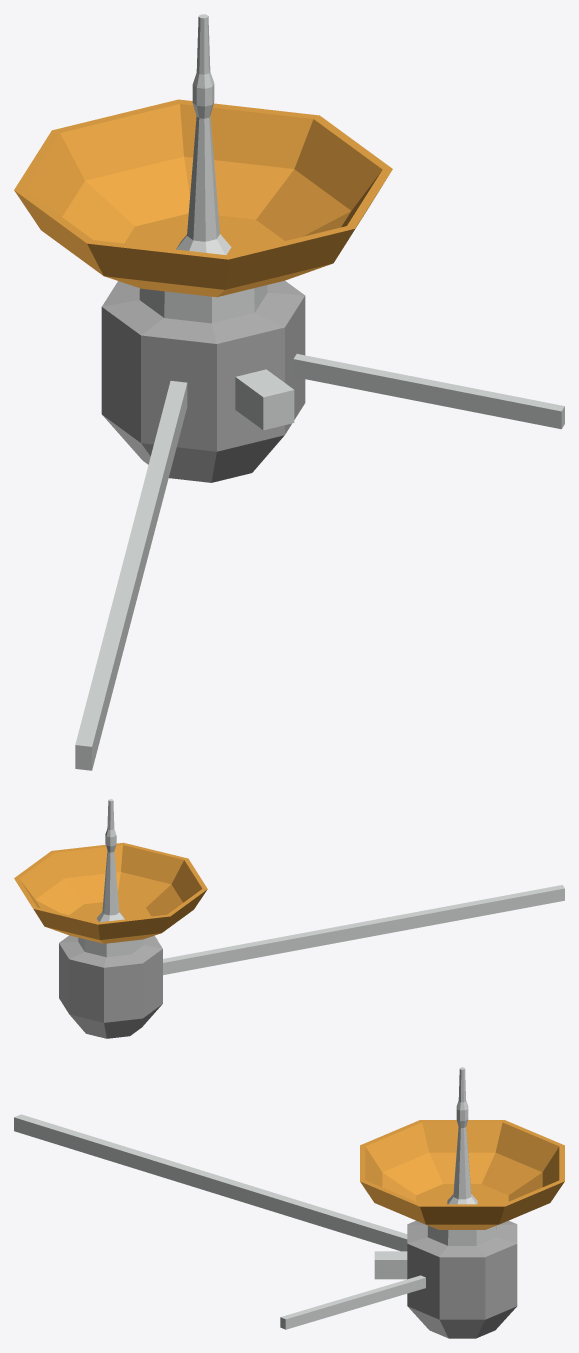
File: Voyager.fbx
3 renders of one model, top to bottom at view 1: azimuth 30°, elevation 25°; view 2: azimuth 150°, elevation 25°; view 3: azimuth 270°, elevation 25°, orthographic. The views are drawn at different scales.
Parts seen in each view (by area): view 1: pCylinder1; view 2: pCylinder1; view 3: pCylinder1.
Boxes of the visible parts, x1,y1,x2,y2 form: pCylinder1: (14,14,564,770); pCylinder1: (14,799,564,1038); pCylinder1: (14,1067,564,1338).
Size of the model in its own units: 22.54 by 13.32 by 25.81.
Materials: 1 (1 with a texture image).
